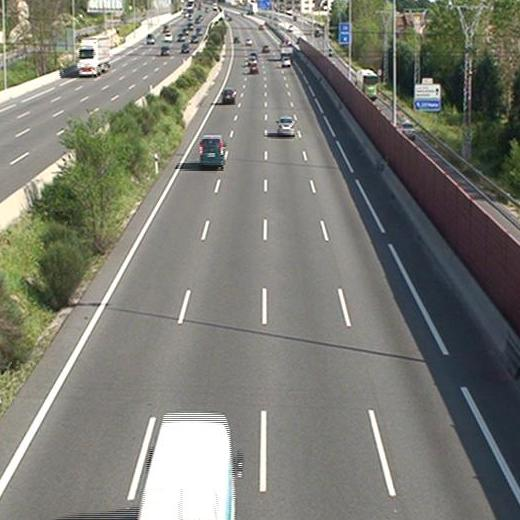car: (278, 116, 295, 135), (222, 90, 234, 101), (248, 63, 258, 74), (282, 58, 291, 66)
van: (199, 137, 224, 166)
